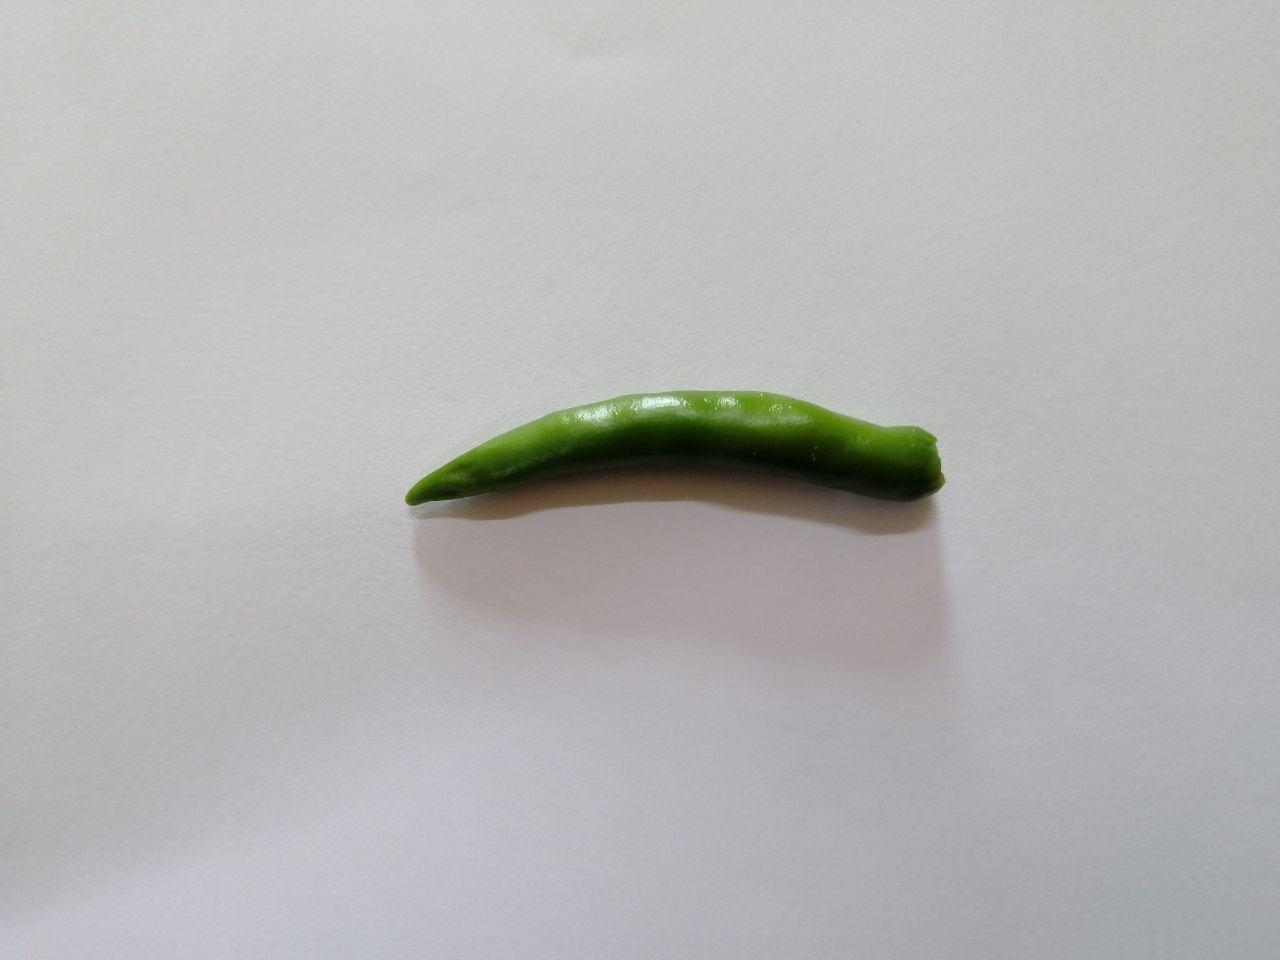lada hijau: (385, 372, 984, 564)
